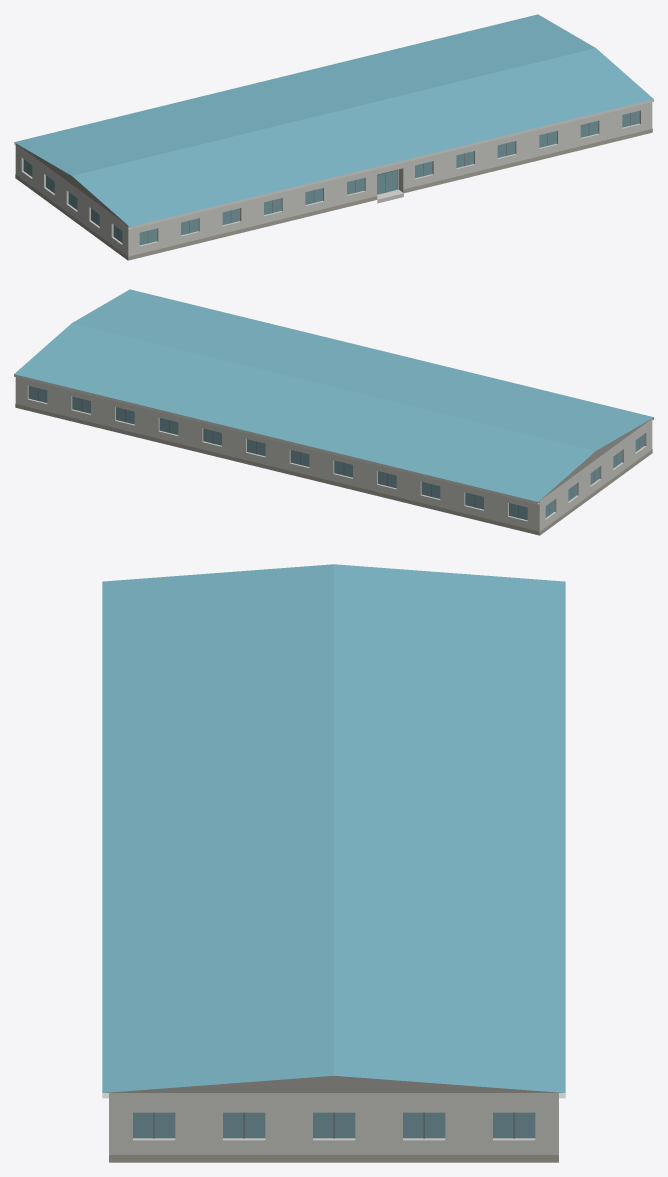
The picture shows the model from 3 angles, top to bottom: view 1: azimuth 30°, elevation 25°; view 2: azimuth 150°, elevation 25°; view 3: azimuth 270°, elevation 25°; orthographic projection. The views are drawn at different scales.
Parts seen in each view (by area): view 1: aux778946313__roofAccent, aux778946313__wall, aux778946313__glass, aux778946313__base, aux778946313__trim, aux778946313__wall2; view 2: aux778946313__roofAccent, aux778946313__wall, aux778946313__glass, aux778946313__base, aux778946313__trim, aux778946313__wall2; view 3: aux778946313__roofAccent, aux778946313__wall, aux778946313__glass, aux778946313__wall2, aux778946313__base.
Boxes of the visible parts, x1=… form: aux778946313__roofAccent: x1=14, y1=14, x2=653, y2=226; aux778946313__wall: x1=15, y1=102, x2=652, y2=259; aux778946313__glass: x1=23, y1=110, x2=639, y2=245; aux778946313__base: x1=15, y1=129, x2=652, y2=260; aux778946313__trim: x1=14, y1=99, x2=653, y2=229; aux778946313__wall2: x1=15, y1=143, x2=127, y2=225; aux778946313__roofAccent: x1=14, y1=289, x2=653, y2=501; aux778946313__wall: x1=15, y1=377, x2=652, y2=534; aux778946313__glass: x1=28, y1=386, x2=644, y2=520; aux778946313__base: x1=15, y1=404, x2=652, y2=535; aux778946313__trim: x1=14, y1=374, x2=653, y2=504; aux778946313__wall2: x1=540, y1=418, x2=652, y2=500; aux778946313__roofAccent: x1=102, y1=564, x2=565, y2=1092; aux778946313__wall: x1=109, y1=1093, x2=558, y2=1154; aux778946313__glass: x1=133, y1=1112, x2=535, y2=1138; aux778946313__wall2: x1=106, y1=1075, x2=561, y2=1092; aux778946313__base: x1=109, y1=1155, x2=558, y2=1162.
Bounding box in the file's own units: 63.41 × 5.4 × 24.26.
